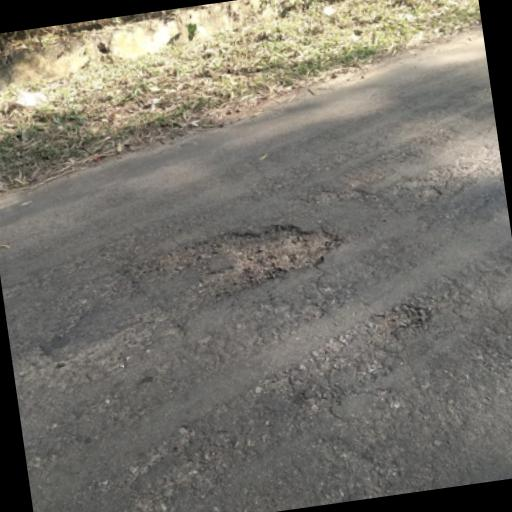pothole: (134, 210, 352, 308), (370, 297, 436, 344)
